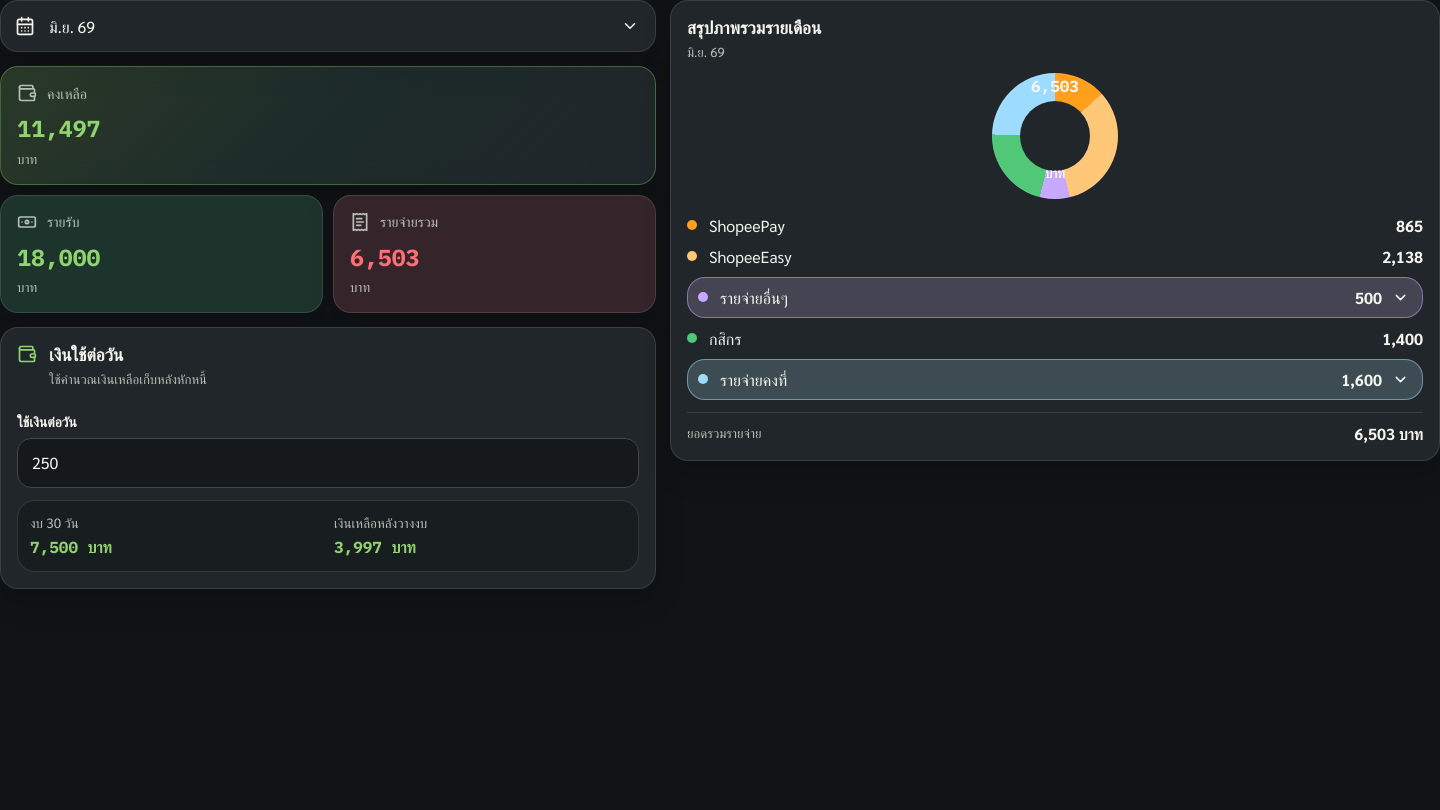
Test: view composition › keeps Dashboard focused on primary overview cards and expands fixed and other details
This screenshot has width=1440, height=810.
expect the text "คงเหลือ" is shown: met, box [47, 84, 87, 102]
expect the text "รายรับ" is shown: met, box [47, 212, 80, 231]
Click the button "รายจ่ายคงที่ 1,600" at (754, 379), box [687, 359, 1423, 400]
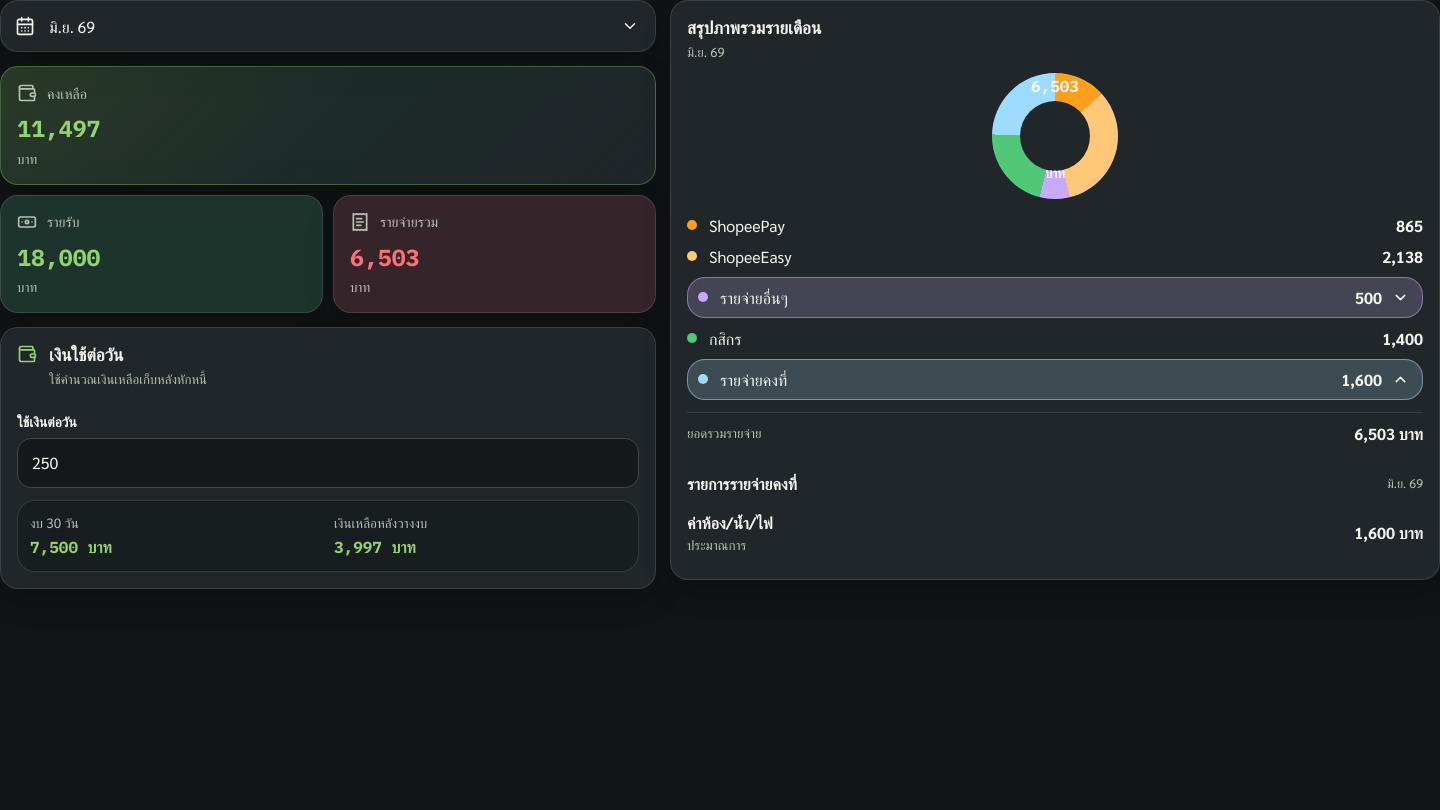
expect the text "ค่าห้อง/น้ำ/ไฟ" is shown: met, box [687, 512, 773, 533]
Click the button "รายจ่ายอื่นๆ 500" at (754, 297), box [687, 277, 1423, 318]
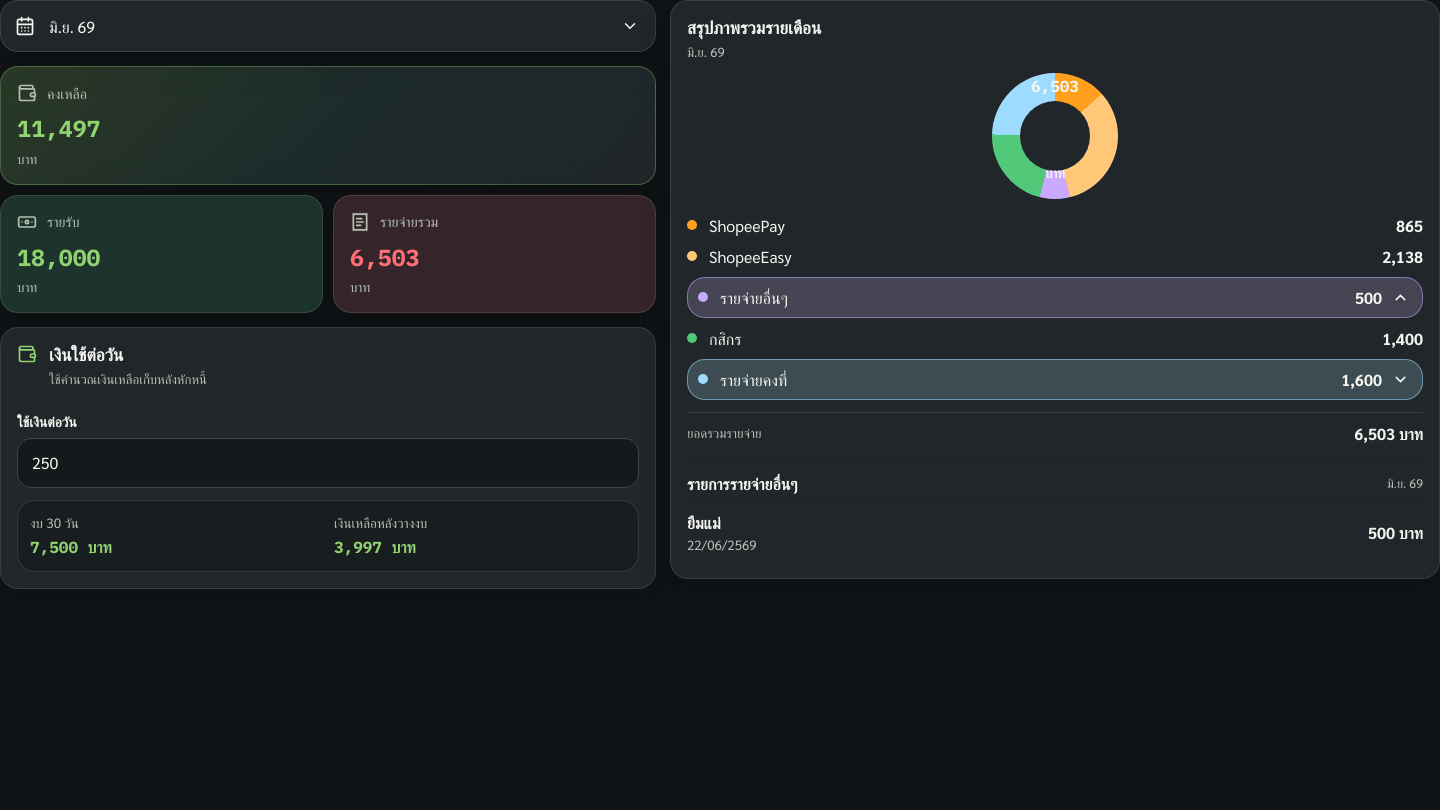
expect the text "ยืมแม่" is shown: met, box [687, 512, 721, 533]
expect the text "500 บาท" is shown: met, box [1368, 522, 1423, 543]
